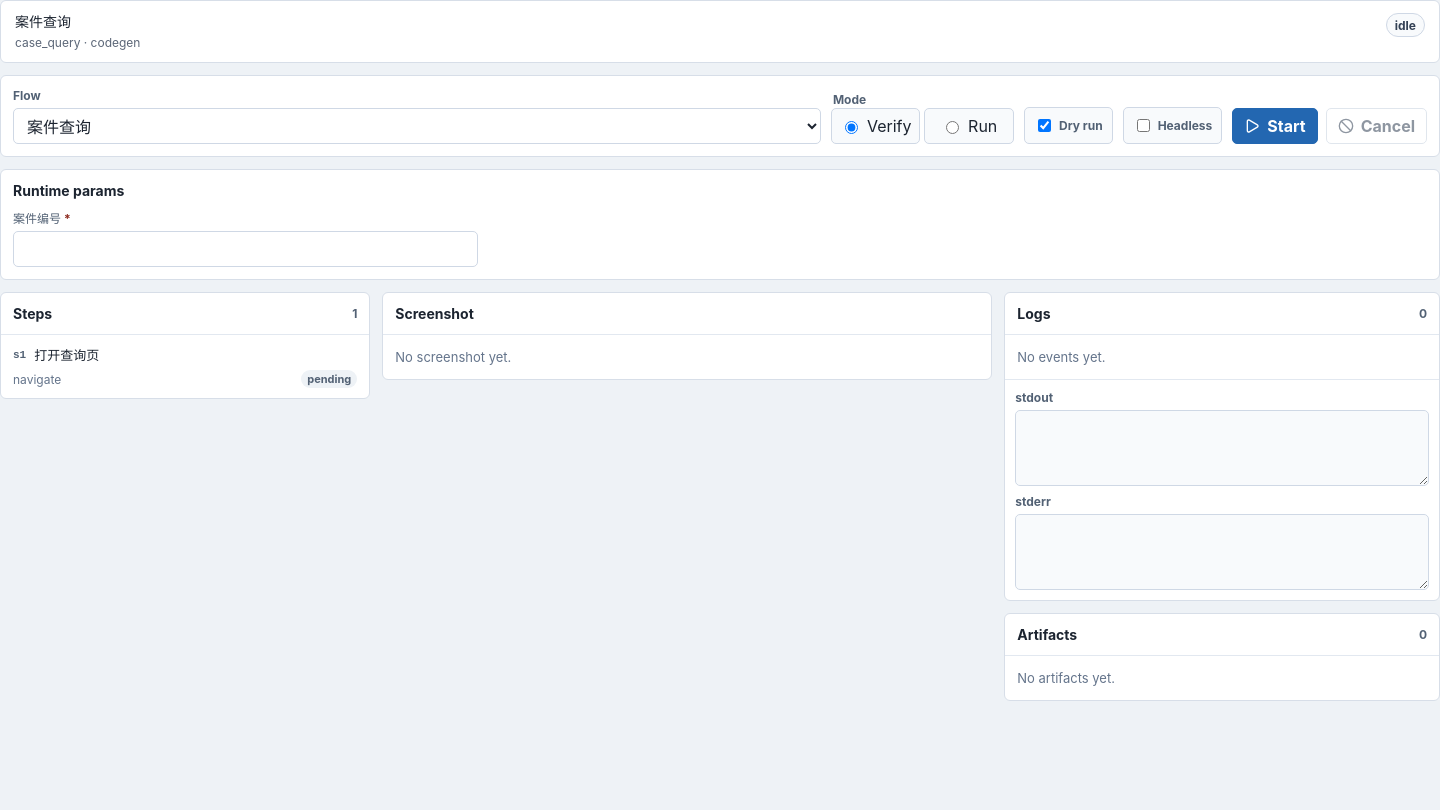
Test: RuntimeVerificationWorkspace › selects an existing flow by title before execution
Expected: the heading "案件查询" is shown, left=15, top=13, right=71, bottom=30
Select "报表下载" in the dropdown labelled "Flow": (417, 126) left=13, top=108, right=821, bottom=144
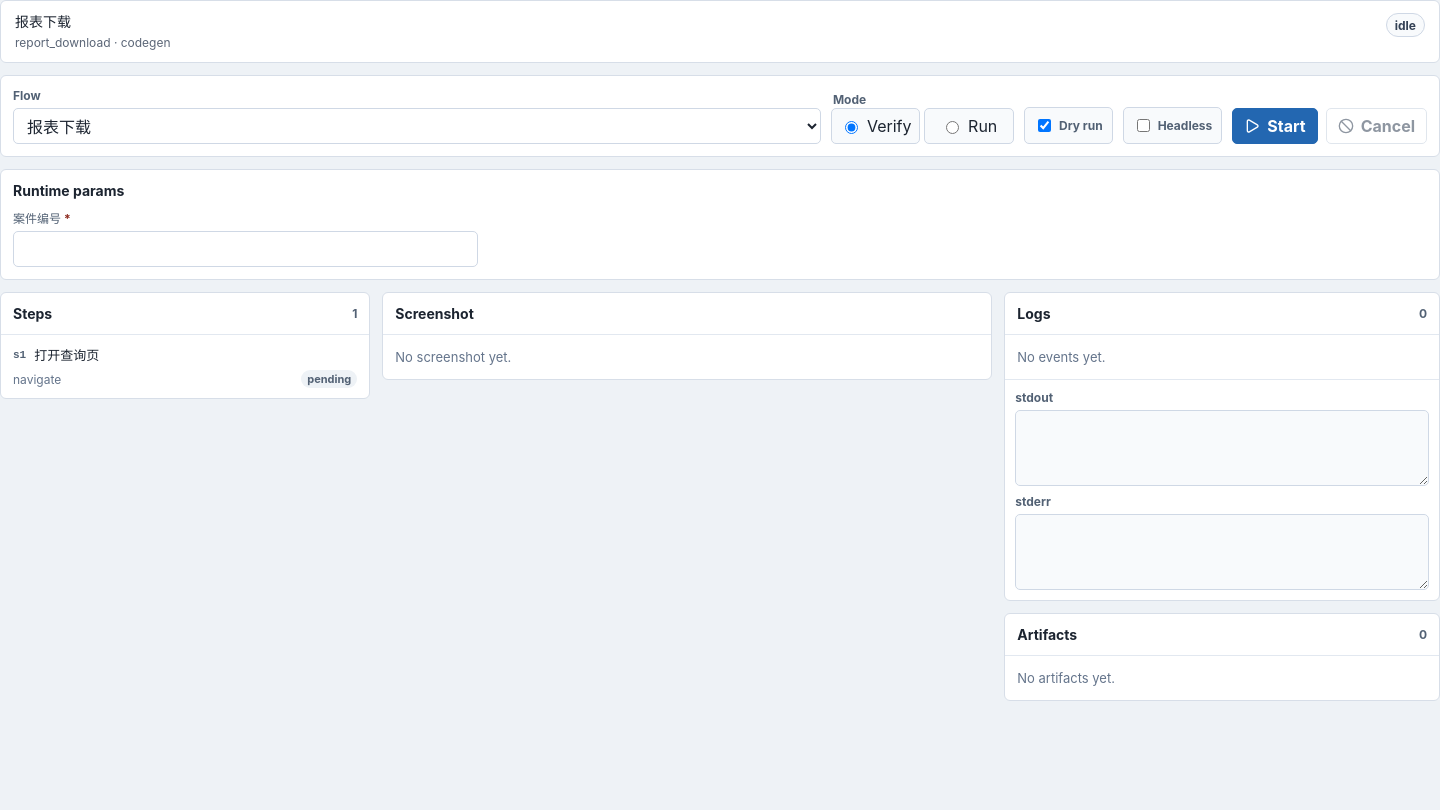
Now the heading "报表下载" is shown, box left=15, top=13, right=71, bottom=30
